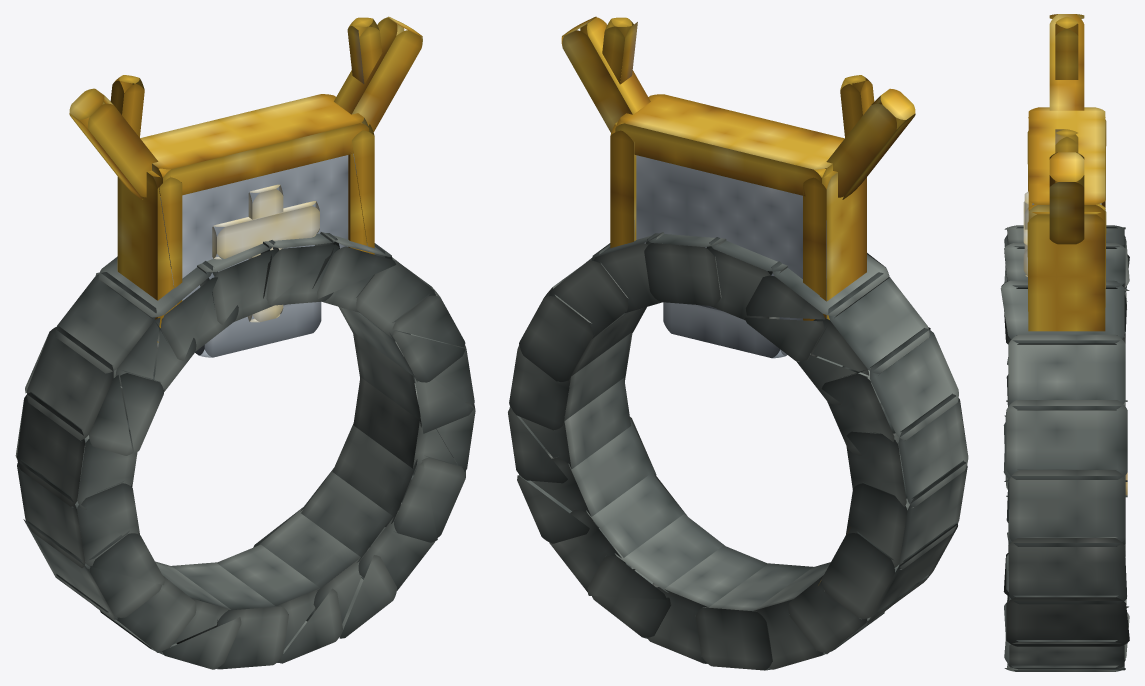
Rendered from wardens_oathring.obj.
The picture shows the model from 3 angles, left to right: view 1: azimuth 30°, elevation 25°; view 2: azimuth 150°, elevation 25°; view 3: azimuth 270°, elevation 25°; orthographic projection. The views are drawn at different scales.
Parts seen in each view (by area): view 1: lit, fire; view 2: lit; view 3: lit, fire.
Boxes of the visible parts, box(x1,y1,x2,y2) form: lit: box(15, 16, 475, 669); fire: box(212, 184, 319, 322); lit: box(508, 16, 968, 670); lit: box(1000, 14, 1129, 671); fire: box(1023, 191, 1028, 276).
Bounding box in the file's own units: 0.7293 × 1.03 × 0.2131.
